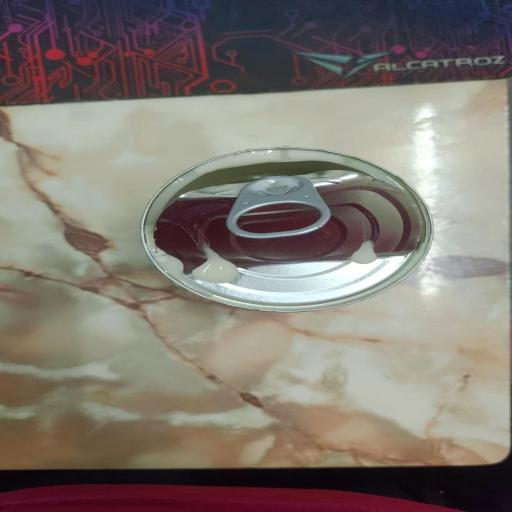can: (139, 145, 436, 313)
pop tab: (226, 176, 335, 240)
